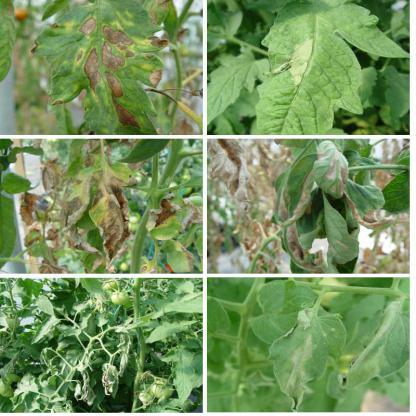Tomato leaf late blight: (40, 3, 166, 130)
